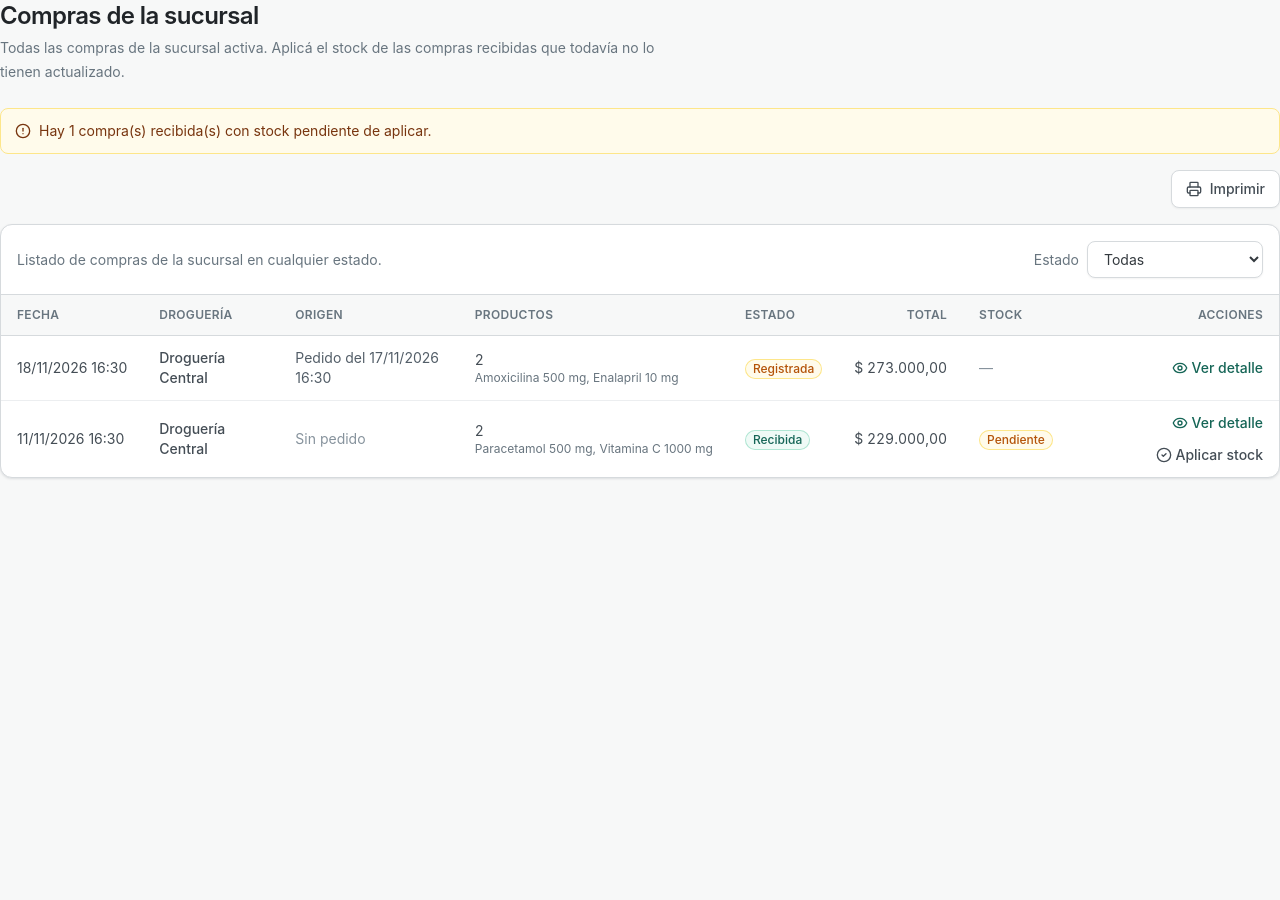
Test: aplica el stock recibido y elimina la acción para evitar doble conteo
Click the button "Aplicar stock" at (1209, 455), box [1156,445,1263,465]
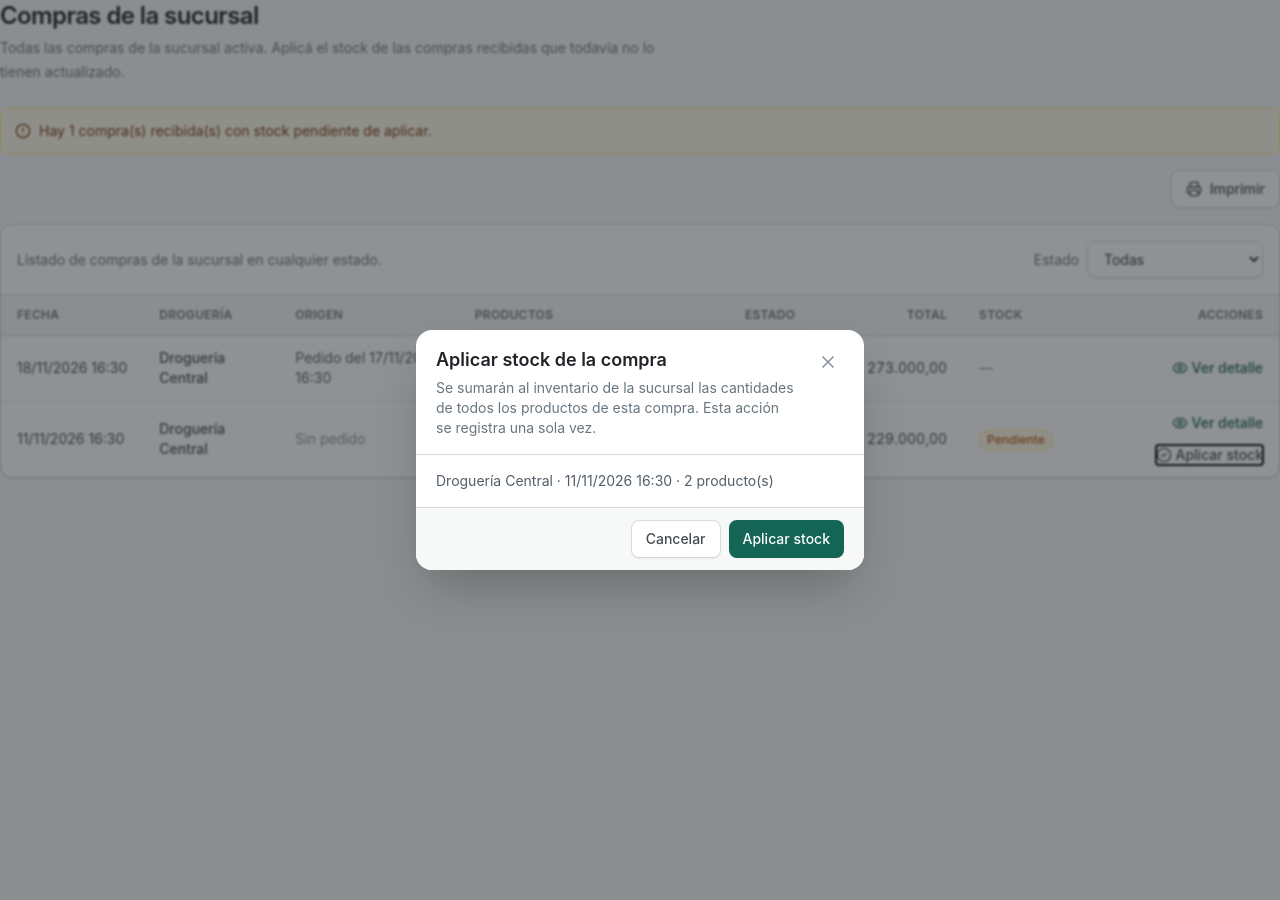
Click the button "Aplicar stock" at (786, 539), box [728,520,844,558]
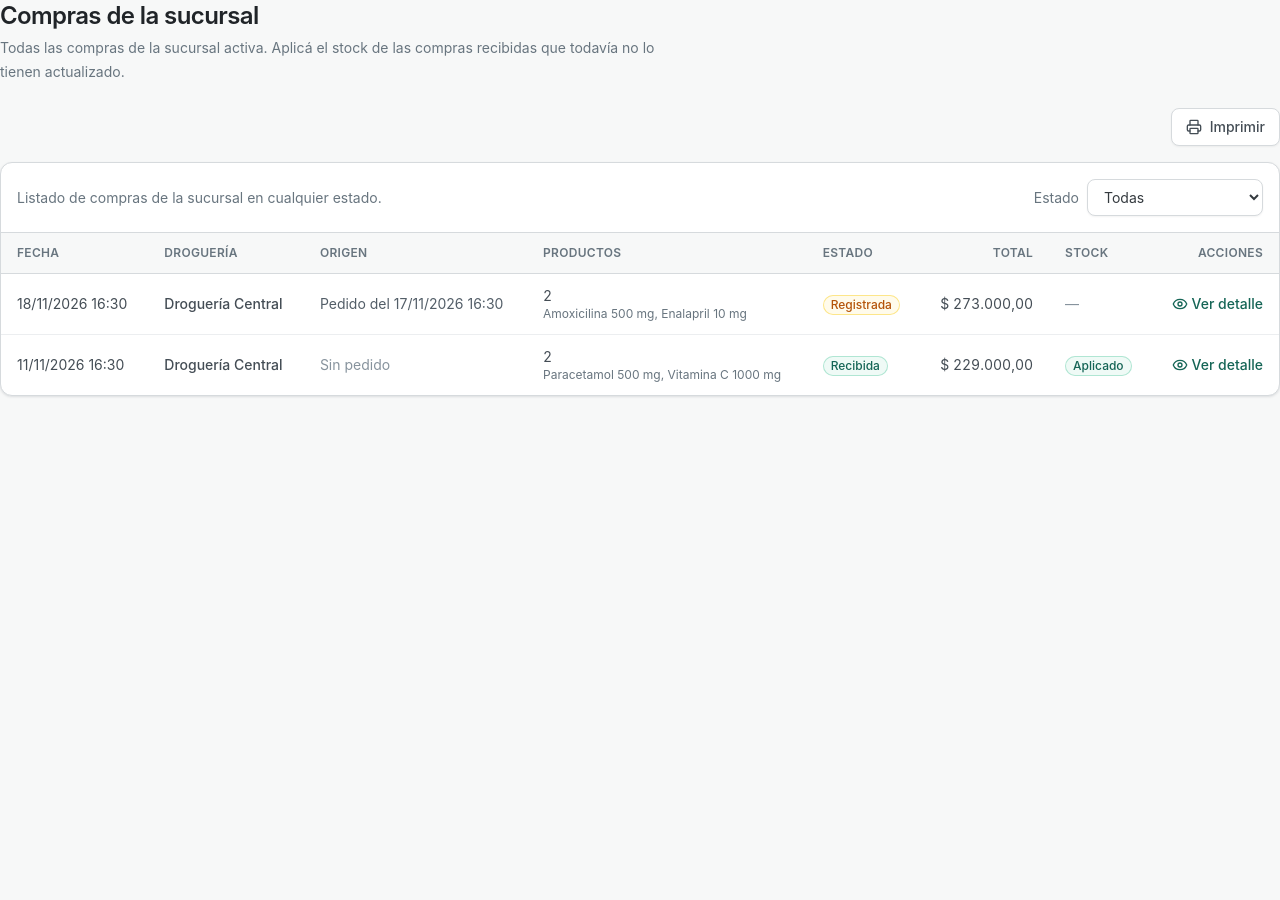
Expected: the button "Aplicar stock" is gone
